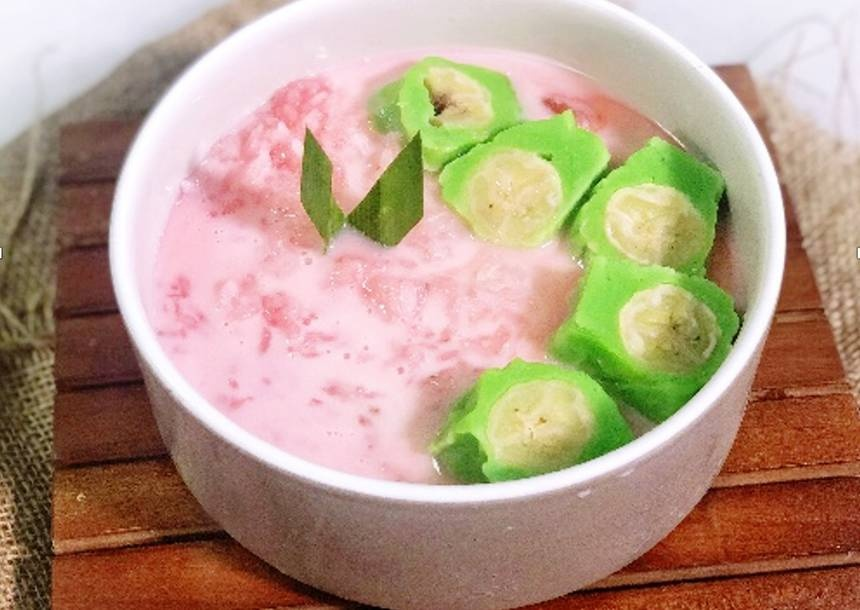pisang_ijo: (425, 331, 627, 501)
